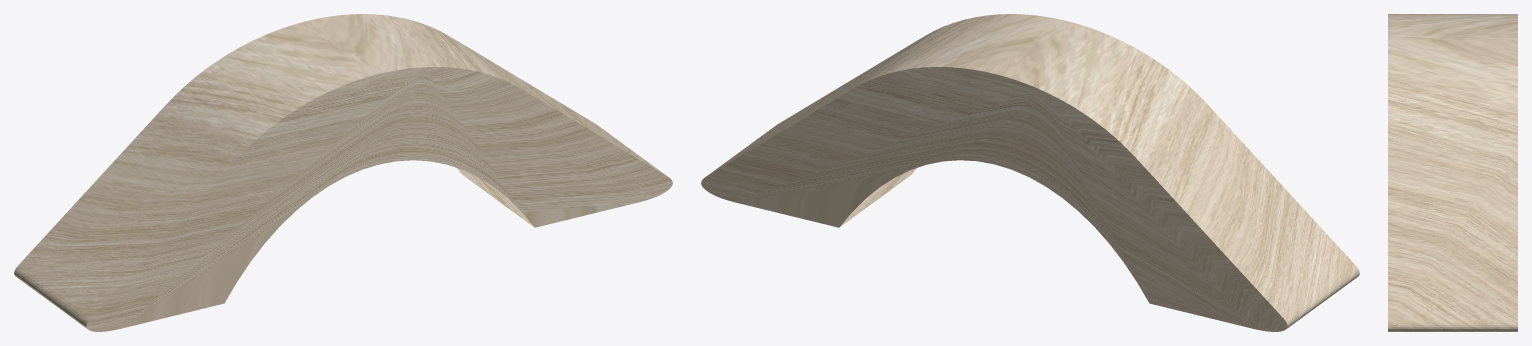
File: modeling14.glb
The picture shows the model from 3 angles, left to right: view 1: azimuth 30°, elevation 25°; view 2: azimuth 150°, elevation 25°; view 3: azimuth 270°, elevation 25°; orthographic projection. The views are drawn at different scales.
Parts seen in each view (by area): view 1: 큐브.002; view 2: 큐브.002; view 3: 큐브.002.
Boxes of the visible parts, <box> form: 큐브.002: <box>14,14,672,331</box>; 큐브.002: <box>701,14,1359,331</box>; 큐브.002: <box>1388,14,1517,331</box>.
Bounding box in the file's own units: 2.87 × 0.896 × 0.6124.
1 material, 1 textured.
